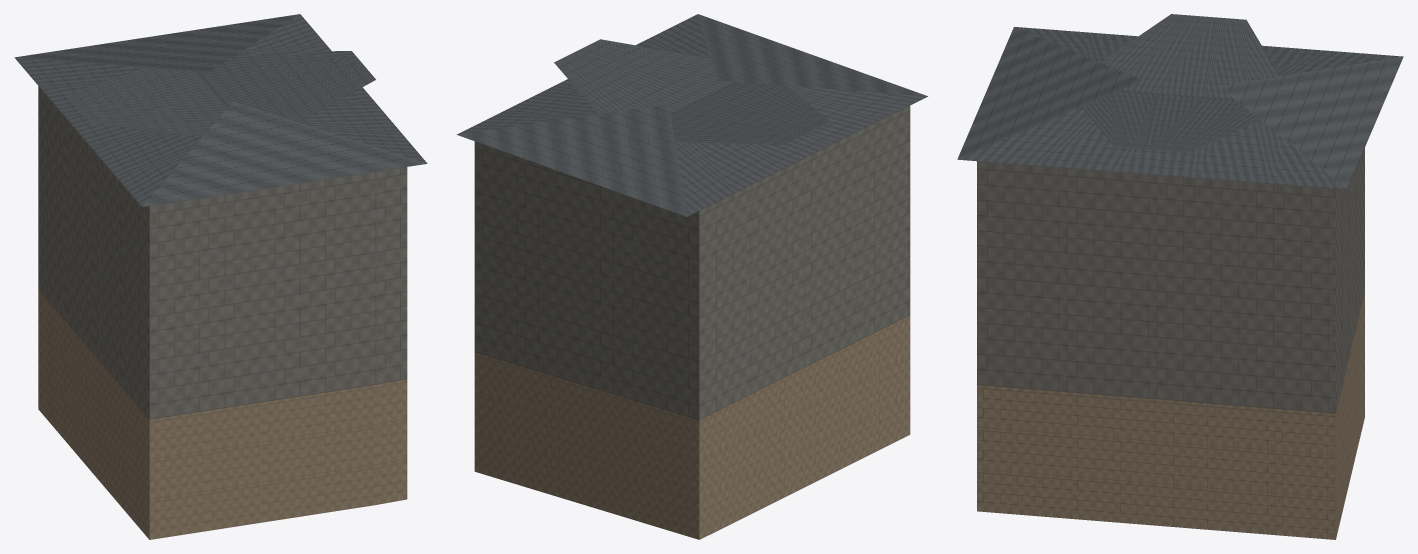
Rendered from bld_c4_6_495.gltf.
The picture shows the model from 3 angles, left to right: view 1: azimuth 30°, elevation 25°; view 2: azimuth 150°, elevation 25°; view 3: azimuth 270°, elevation 25°; orthographic projection. The views are drawn at different scales.
Parts seen in each view (by area): view 1: bld_c4_6_495; view 2: bld_c4_6_495; view 3: bld_c4_6_495.
Part boxes in pixels (x1,y1,x2,y2): bld_c4_6_495: (14, 14, 427, 539); bld_c4_6_495: (457, 14, 927, 539); bld_c4_6_495: (957, 14, 1403, 539).
Bounding box in the file's own units: 14.06 × 15.4 × 16.31.
Materials: 3 (3 with a texture image).
